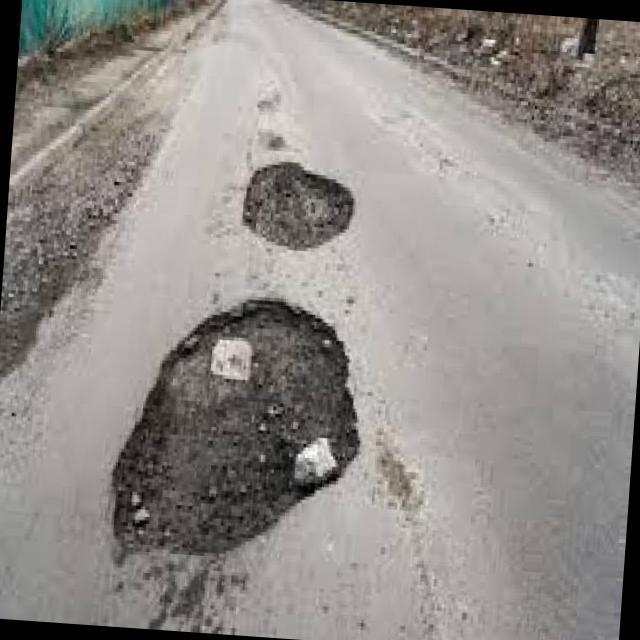Burst: (98, 295, 361, 632), (244, 161, 351, 254)
